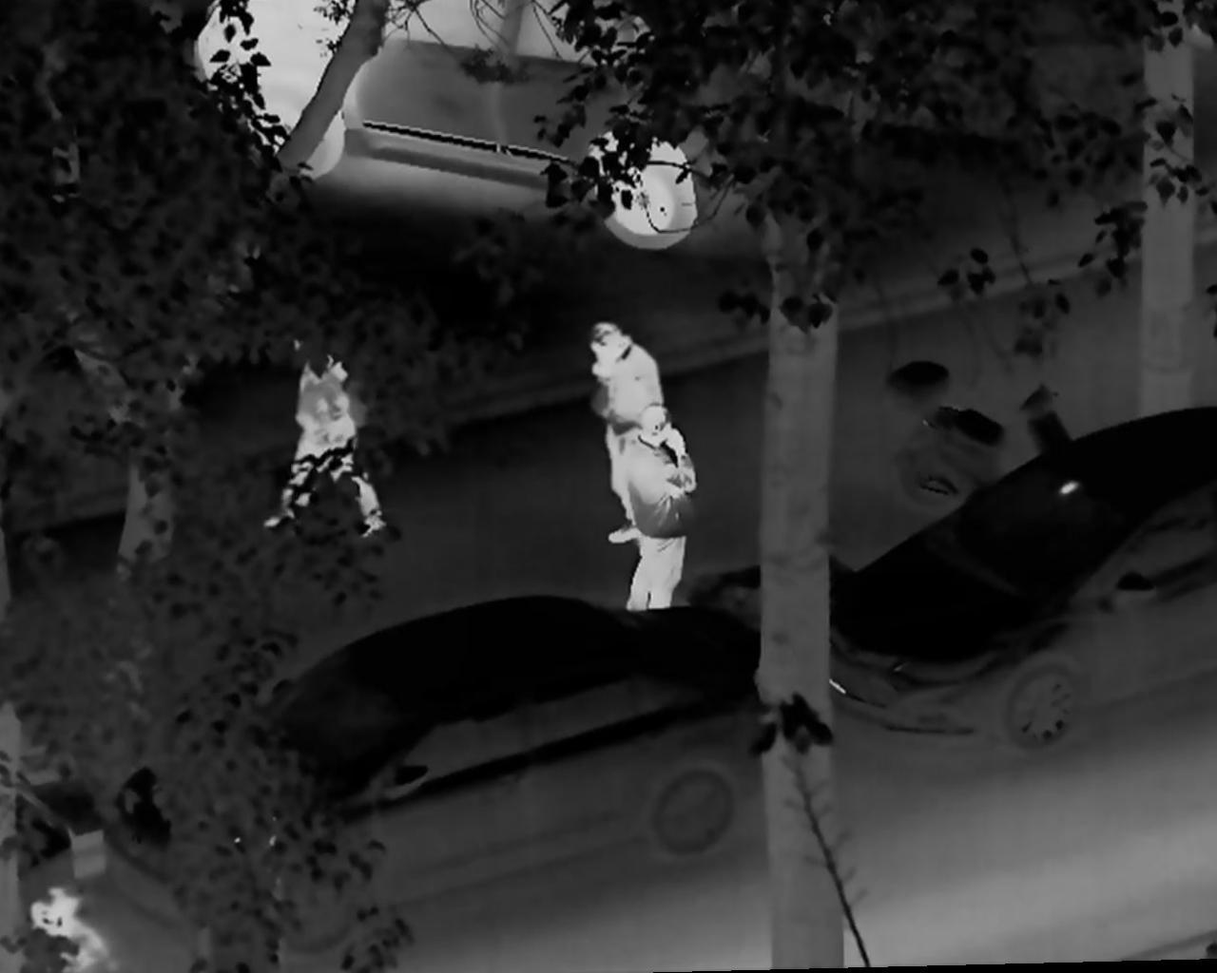person: (262, 322, 396, 543), (577, 322, 691, 548), (608, 404, 698, 613), (25, 874, 128, 973)
